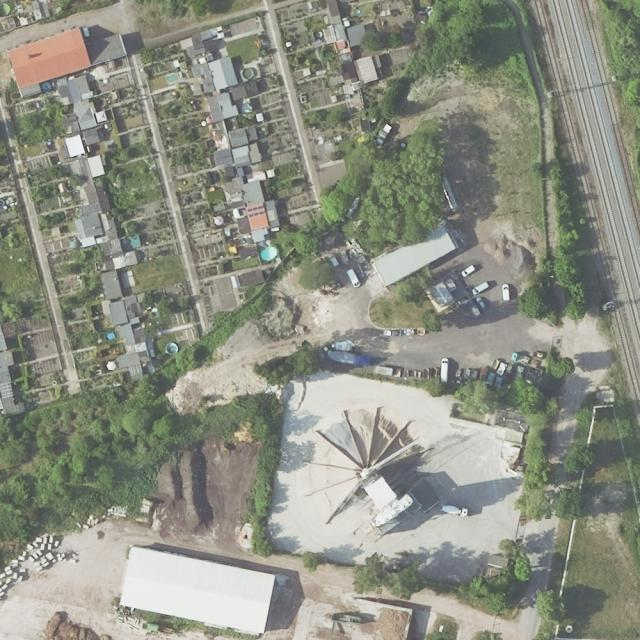PV: (247, 204, 266, 219)
